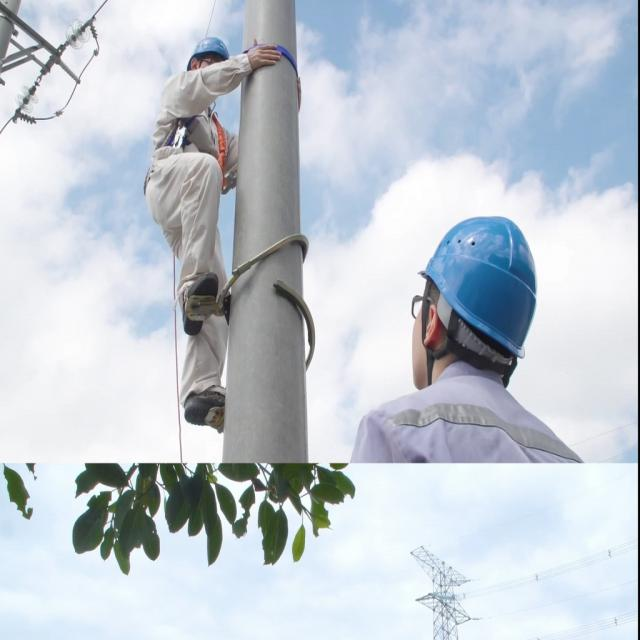blue helmet: (415, 217, 535, 356), (182, 38, 234, 68)
person: (336, 187, 602, 468), (150, 31, 240, 432)
